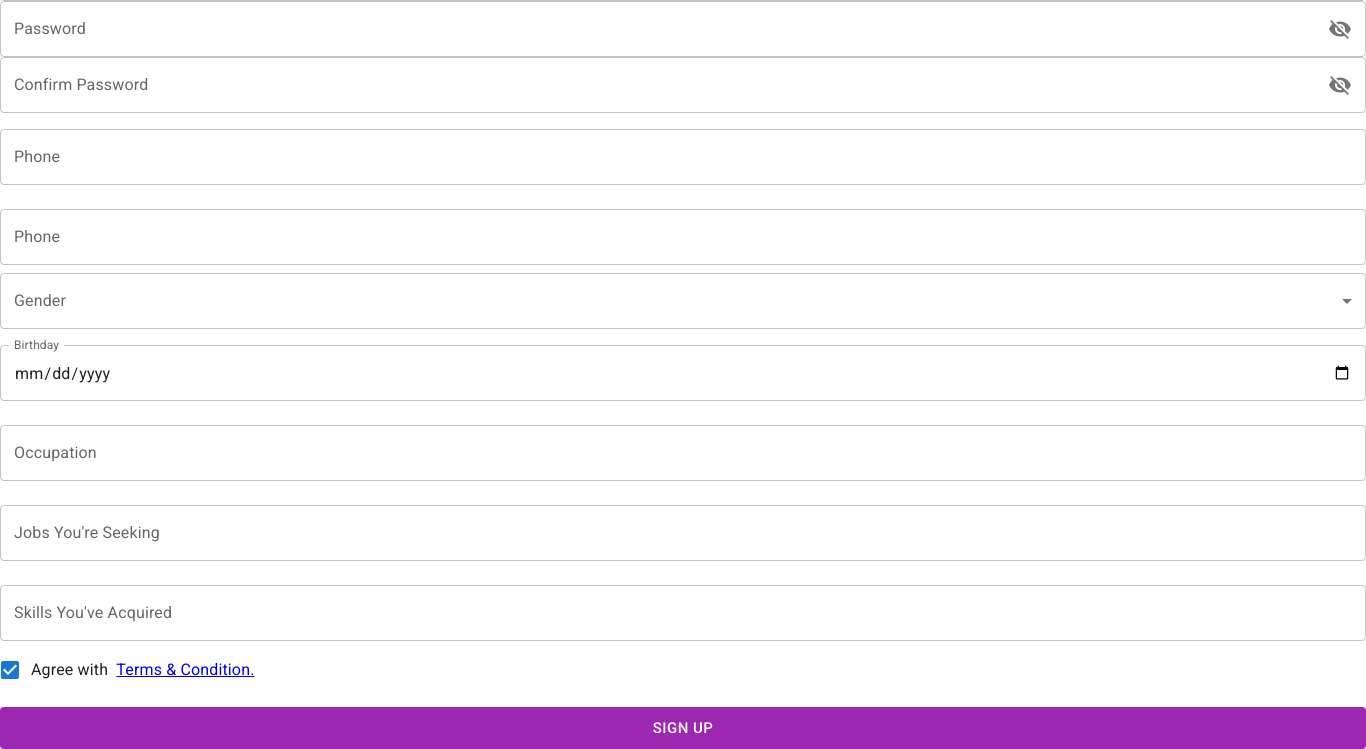
AuthRegister › User clicks the “Register” button
The image size is (1366, 749).
(page scrolled)
Click the button with test id "sign-up-button" at [683, 728], box x1=0 y1=707 x2=1365 y2=748
(page scrolled)
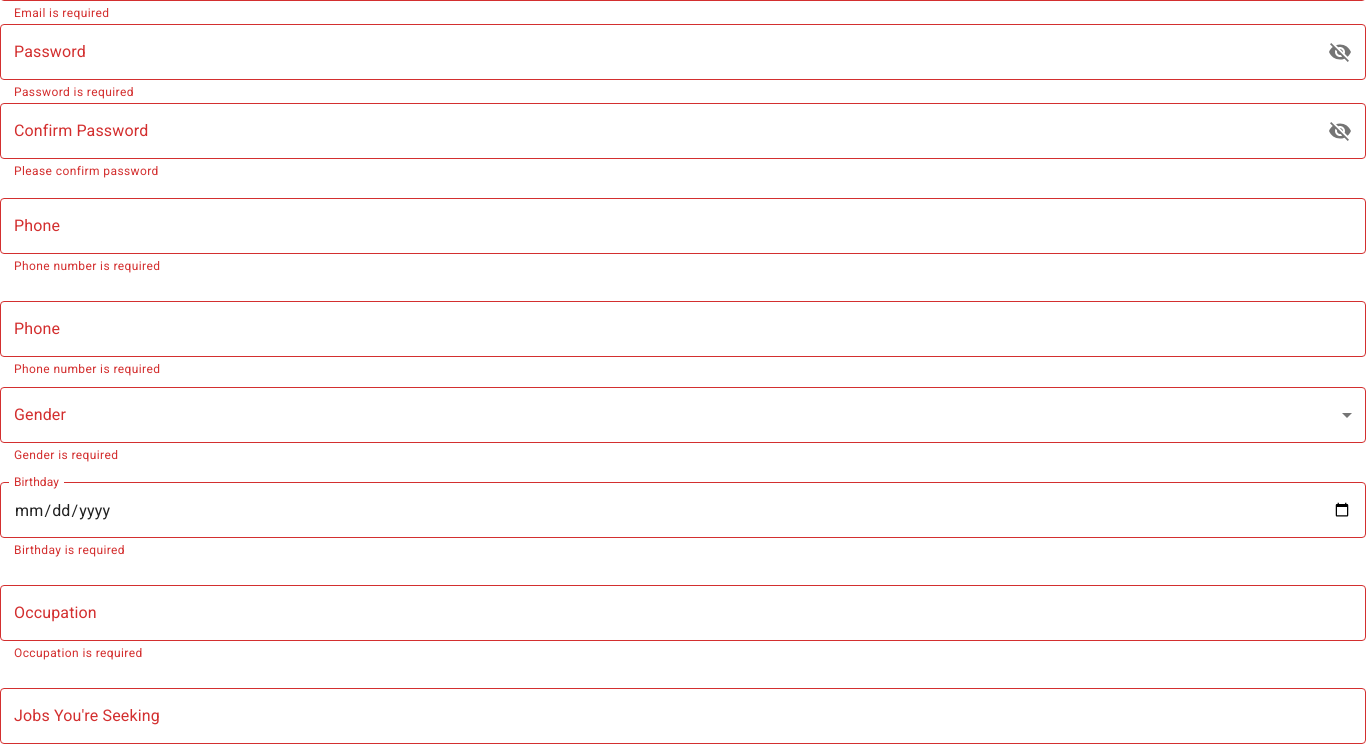
Result: the text "Email is required" is shown at x1=14 y1=6 x2=109 y2=20
Result: the text "Password is required" is shown at x1=14 y1=85 x2=134 y2=99
Result: the text "Please confirm password" is shown at x1=14 y1=164 x2=159 y2=178
